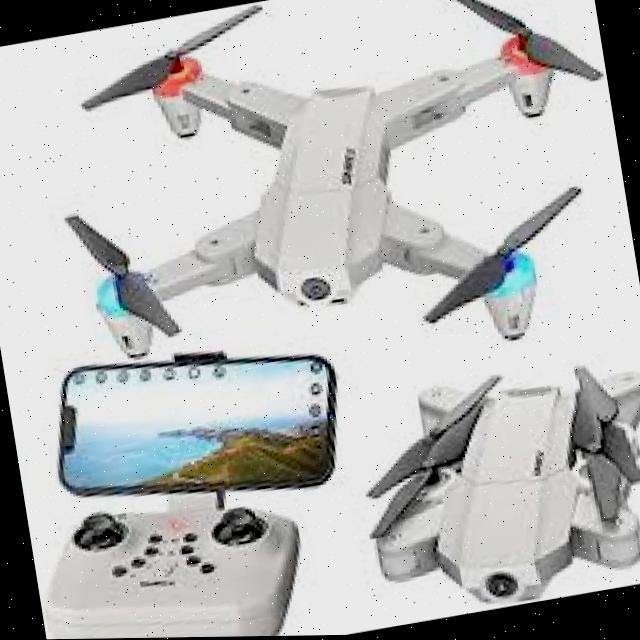drone: (11, 0, 640, 429)
